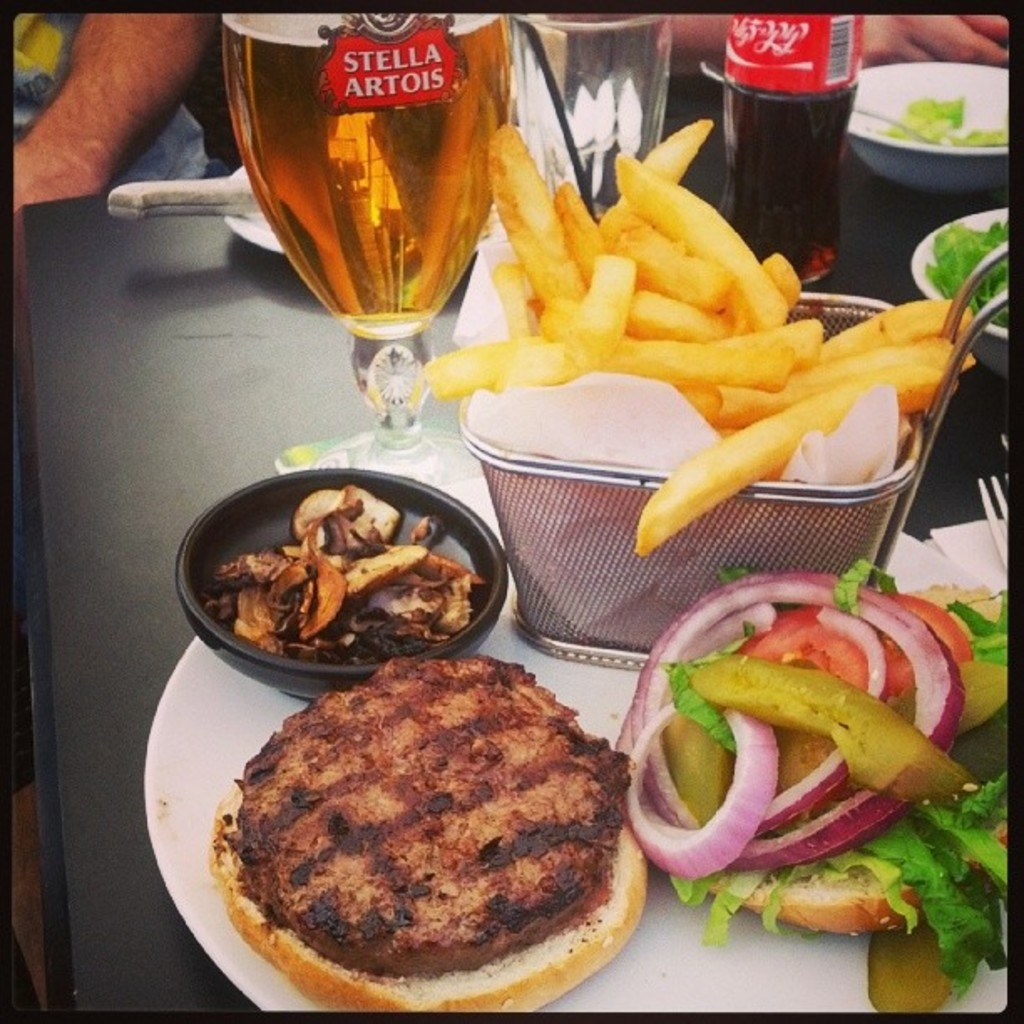French fries: (438, 127, 940, 508)
